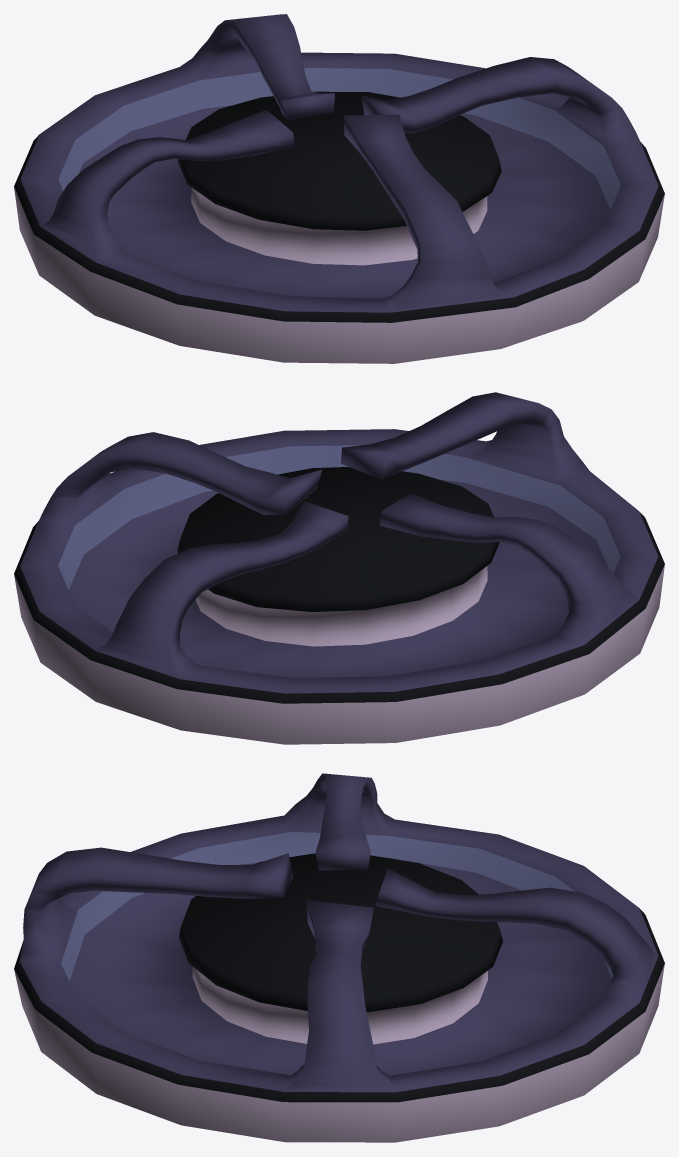
The model's file is hotplate01.fbx.
The picture shows the model from 3 angles, top to bottom: view 1: azimuth 30°, elevation 25°; view 2: azimuth 150°, elevation 25°; view 3: azimuth 270°, elevation 25°; orthographic projection.
Visible parts, largest first — view 1: hotplate01; view 2: hotplate01; view 3: hotplate01.
Boxes of the visible parts, left/top/right/bottom form: hotplate01: left=14, top=14, right=664, bottom=363; hotplate01: left=14, top=392, right=664, bottom=744; hotplate01: left=14, top=773, right=664, bottom=1142.
Size of the model in its own units: 54.99 by 13.92 by 55.94.
